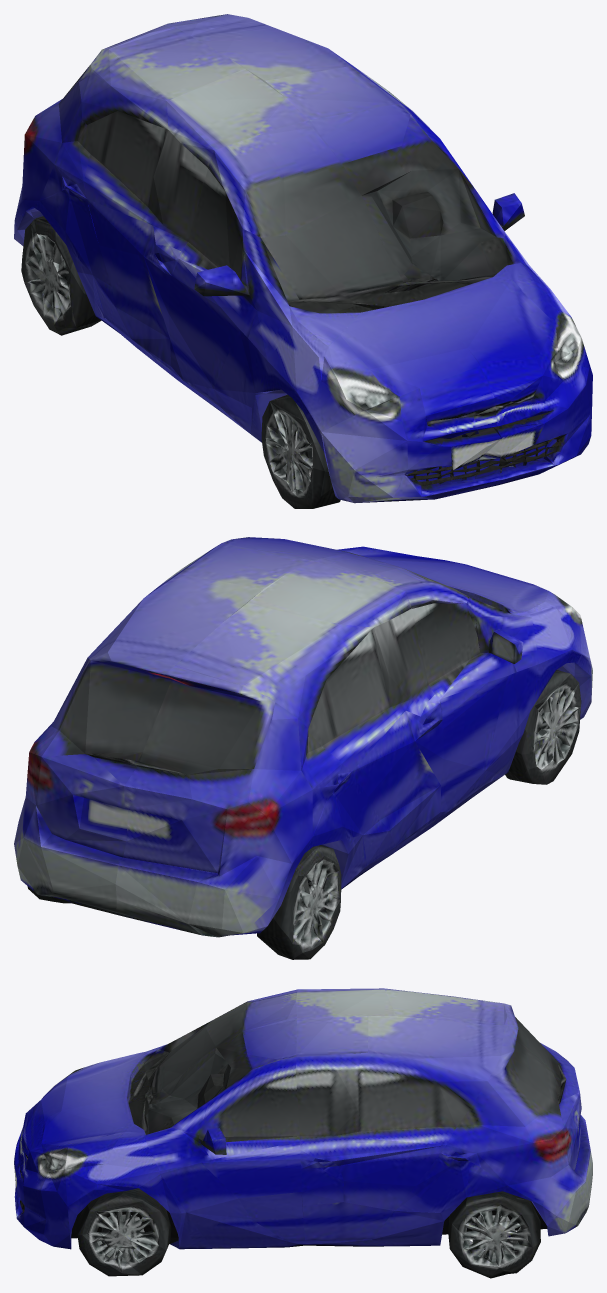
The model's file is kompakt.glb.
The picture shows the model from 3 angles, top to bottom: view 1: azimuth 30°, elevation 25°; view 2: azimuth 150°, elevation 25°; view 3: azimuth 270°, elevation 25°; orthographic projection. The views are drawn at different scales.
Visible parts, largest first — view 1: koerper; view 2: koerper; view 3: koerper.
Boxes of the visible parts, x1,y1,x2,y2 form: koerper: (14, 14, 592, 508); koerper: (14, 537, 592, 959); koerper: (14, 988, 592, 1278).
Size of the model in its own units: 1.99 by 1.63 by 4.
1 material, 1 textured.
